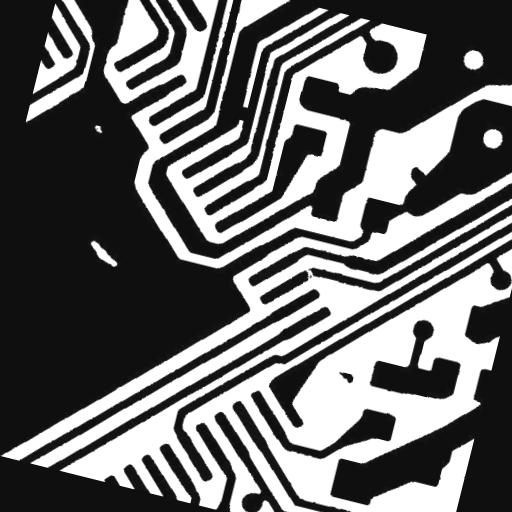copper: (328, 362, 363, 392)
open: (290, 258, 324, 290)
pin-hole: (77, 231, 130, 276), (84, 116, 112, 142)
short: (227, 96, 257, 130)
spur: (399, 156, 436, 194)
